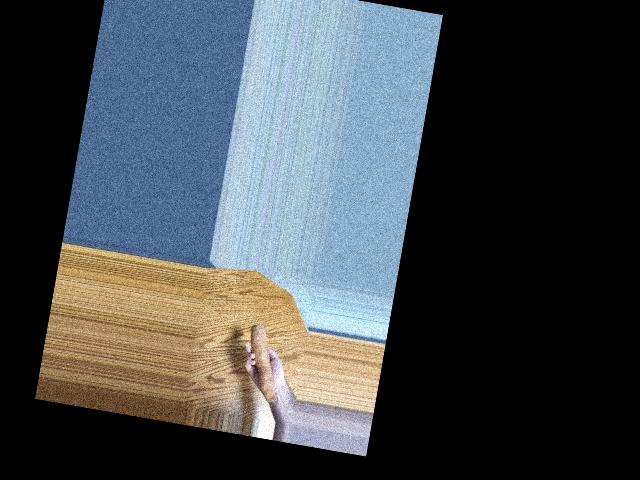sweet_potato: (238, 321, 289, 404)
